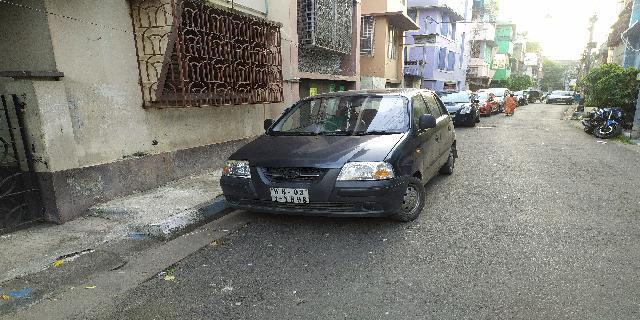Car: (215, 84, 460, 224), (443, 90, 485, 127)
Motorbike: (584, 100, 620, 143)
